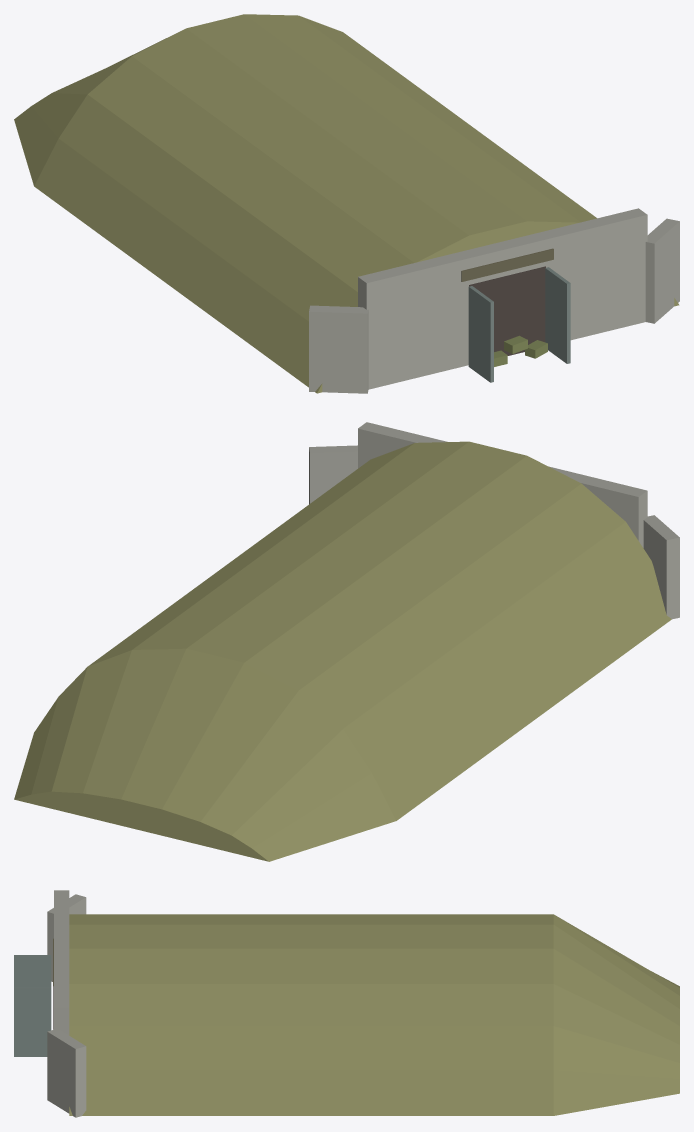
File: SM_Polvorin_v3_LOD0.fbx
3 views of the same model, one above another, from view 1: azimuth 30°, elevation 25°; view 2: azimuth 150°, elevation 25°; view 3: azimuth 270°, elevation 25° (orthographic). The views are drawn at different scales.
Visible parts, largest first — view 1: SM_polvorin_v3_LOD0, Puerta_O, Puerta_E; view 2: SM_polvorin_v3_LOD0; view 3: SM_polvorin_v3_LOD0, Puerta_E, Puerta_O.
Boxes of the visible parts, bbox=[...] form: SM_polvorin_v3_LOD0: bbox=[14, 14, 679, 393]; Puerta_O: bbox=[468, 286, 493, 382]; Puerta_E: bbox=[545, 267, 570, 363]; SM_polvorin_v3_LOD0: bbox=[14, 422, 679, 861]; SM_polvorin_v3_LOD0: bbox=[47, 890, 679, 1117]; Puerta_E: bbox=[14, 987, 51, 1056]; Puerta_O: bbox=[14, 955, 51, 986].
Size of the model in its own units: 14.53 by 4.53 by 26.39.
